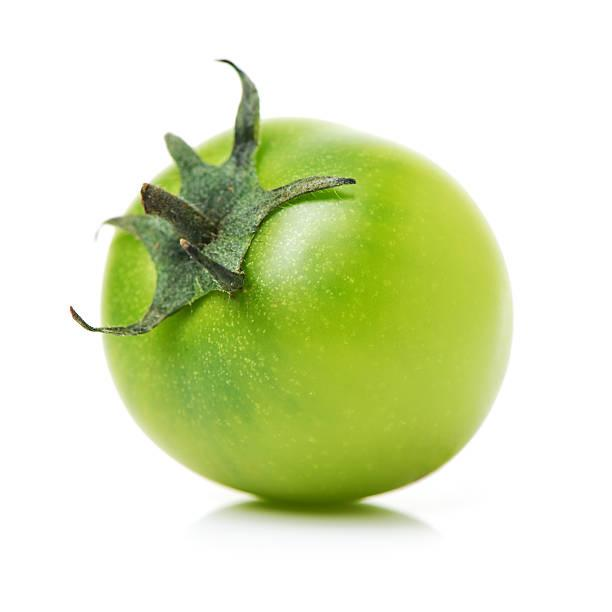Mengkal: (75, 95, 540, 519)
